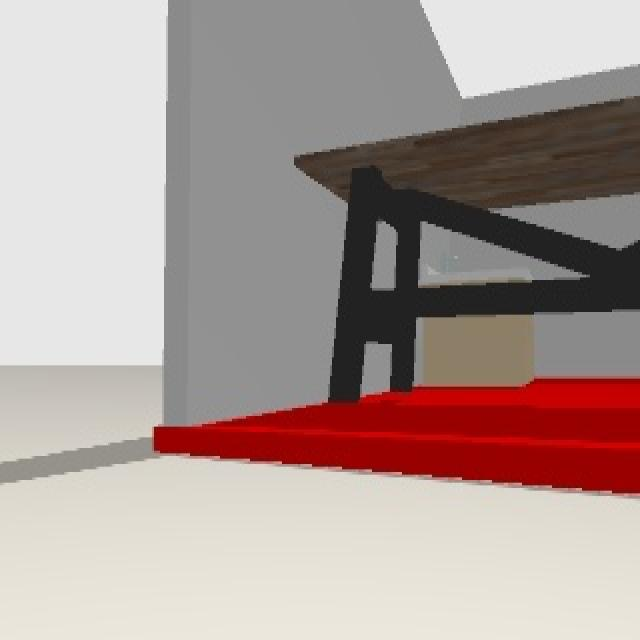dining: (292, 95, 640, 403)
